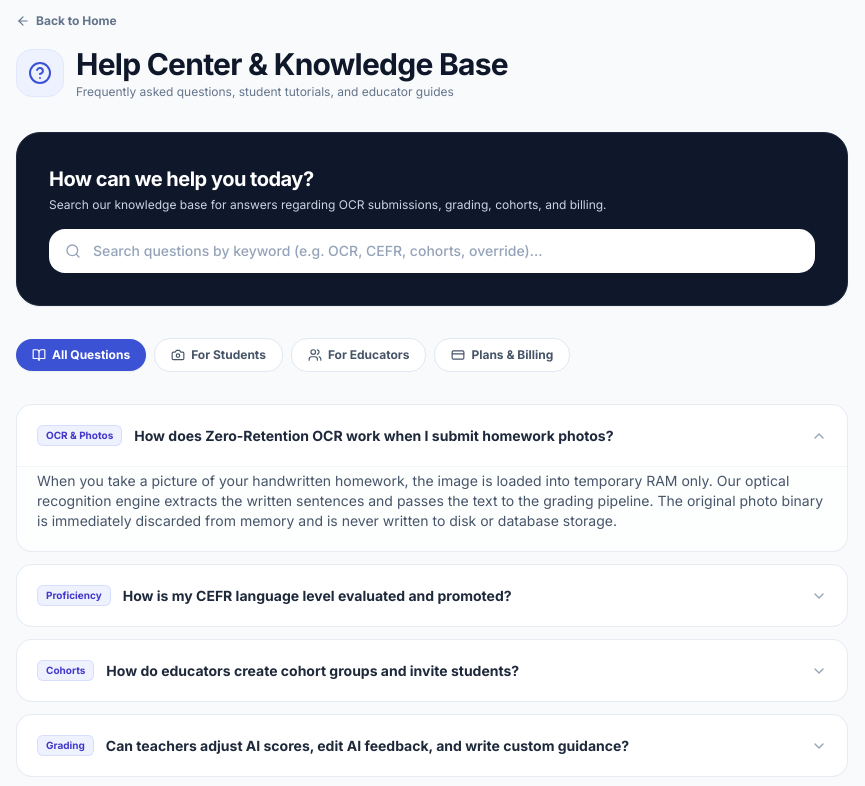
Scenario: HelpCenter page › renders FAQ list, filters by search query and category, and toggles accordions
Check: the heading "Help Center & Knowledge Base" is shown, box [76,46,508,82]
Check: the heading "How does Zero-Retention OCR work" is shown, box [134,426,614,444]
Filter by search query
Replace the text in the field with placeholder "Search questions by keyword" with "Eco Mode": [432, 251] box [49,229,815,273]
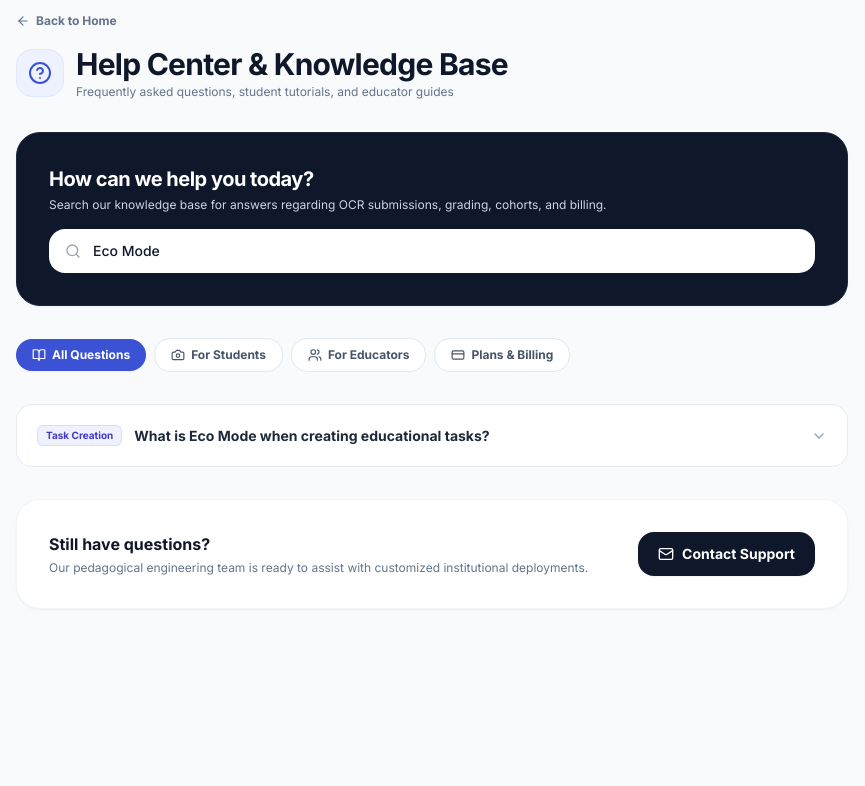
Check: the heading "What is Eco Mode when creating educational tasks?" is shown, box [134,426,490,446]
Check: the button "How does Zero-Retention OCR work" is gone
Clear search
Clear the field with placeholder "Search questions by keyword": [432, 251] box [49,229,815,273]
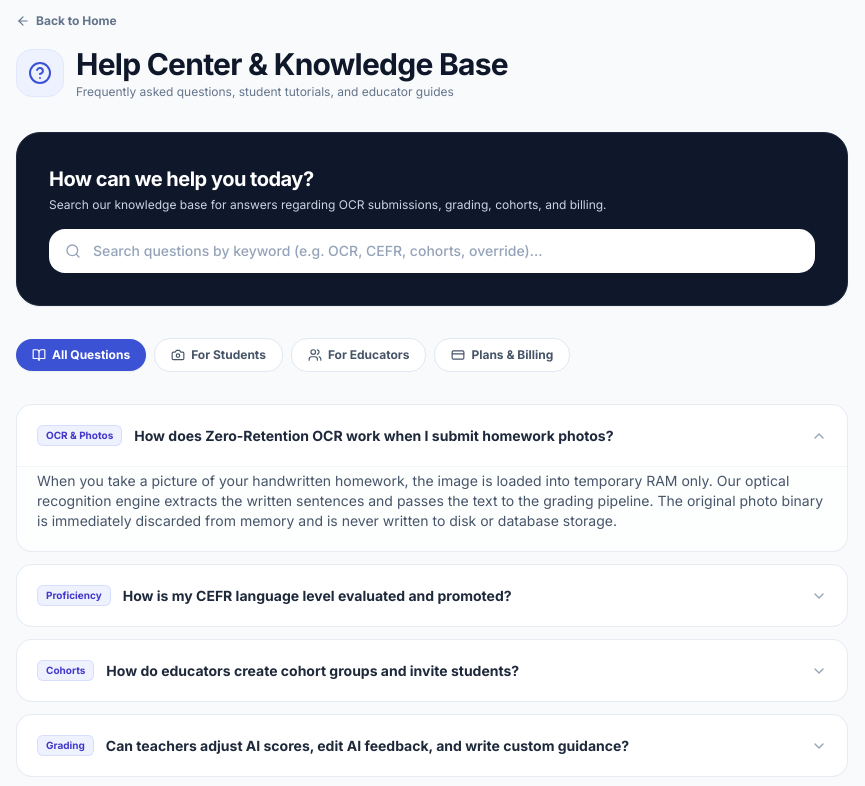
Filter by category: For Educators
Click the button "For Educators": [359, 355] box [291,338,426,372]
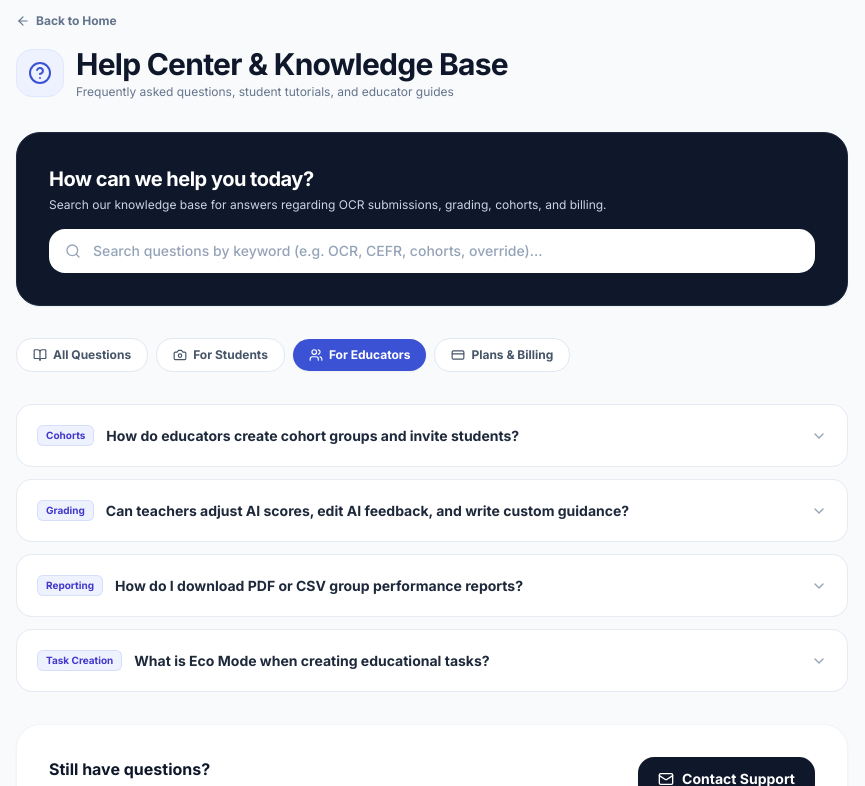
Check: the heading "How do educators create cohort groups and invite students?" is shown, box [106,426,519,446]
Check: the button "How is my CEFR language level evaluated" is gone
Expand the question
Click the button "How do educators create cohort groups and invite students": [432, 436] box [17,405,847,466]
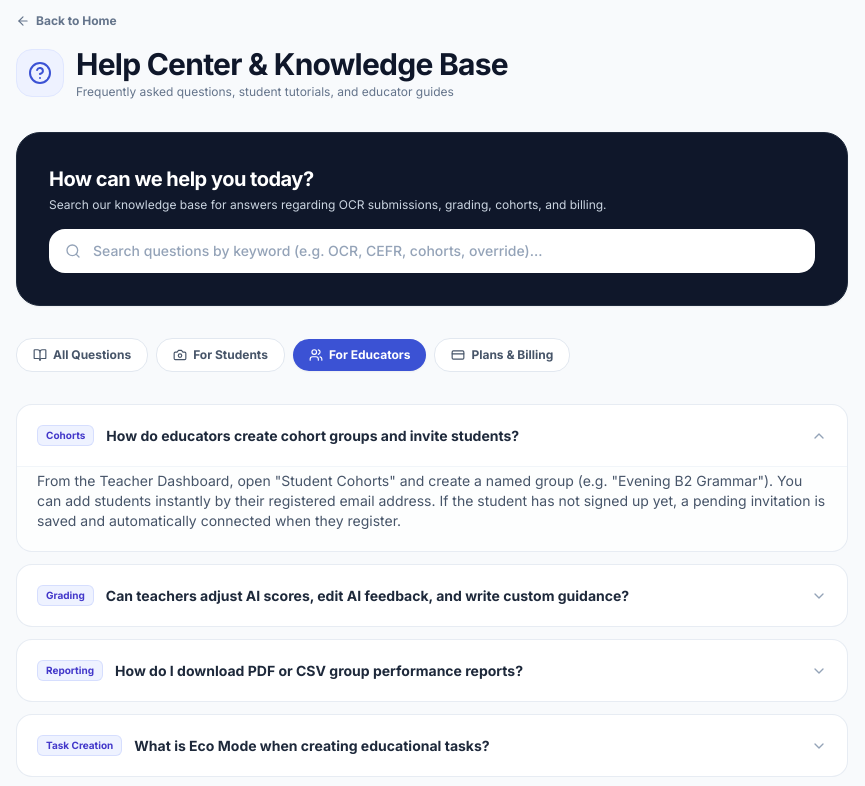
Check: the text "From the Teacher Dashboard, open \"Student Cohorts\"" is shown, box [37,472,825,529]
Collapse the question
Click the button "How do educators create cohort groups and invite students": [432, 436] box [17,405,847,466]
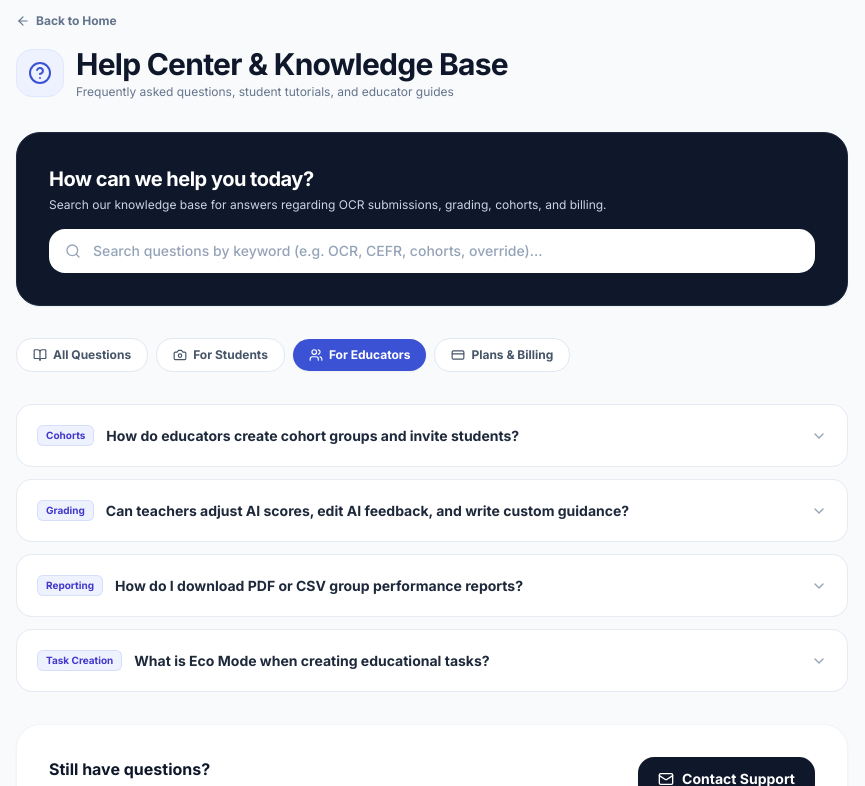
Check: the text "From the Teacher Dashboard, open \"Student Cohorts\"" is gone
